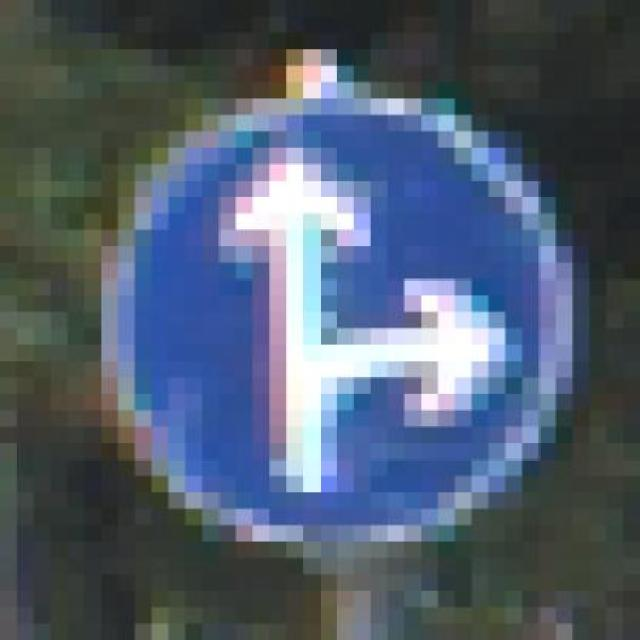Go Straight or Turn Right: (84, 82, 590, 575)
